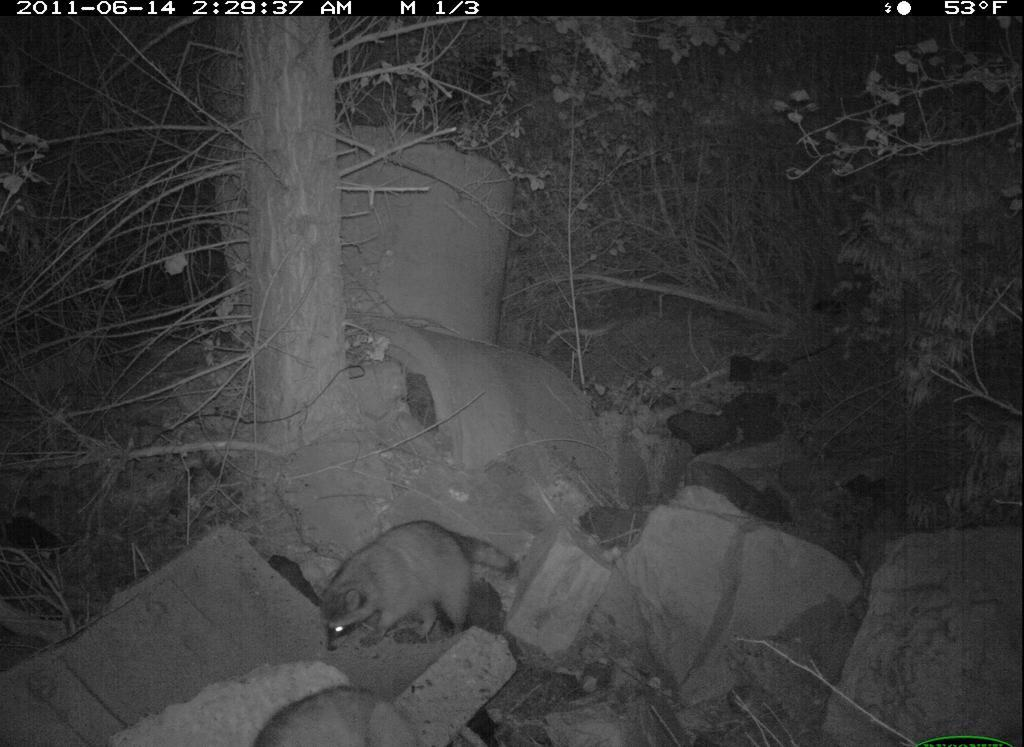raccoon: (310, 519, 550, 664)
